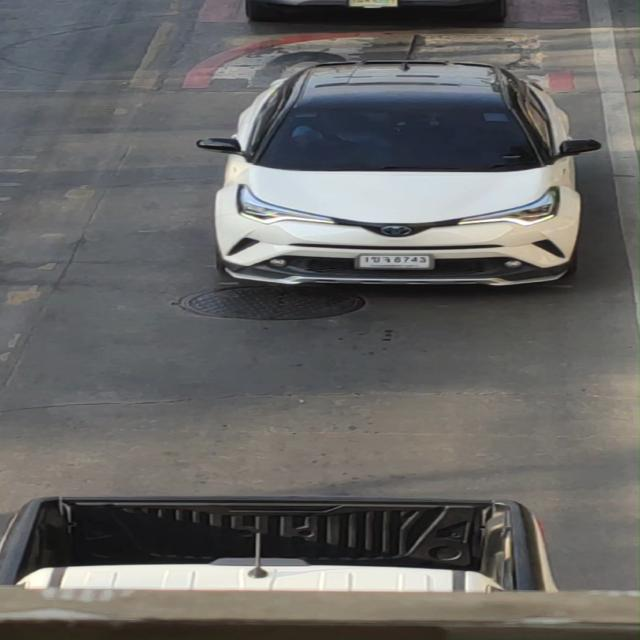car: (167, 53, 640, 304)
